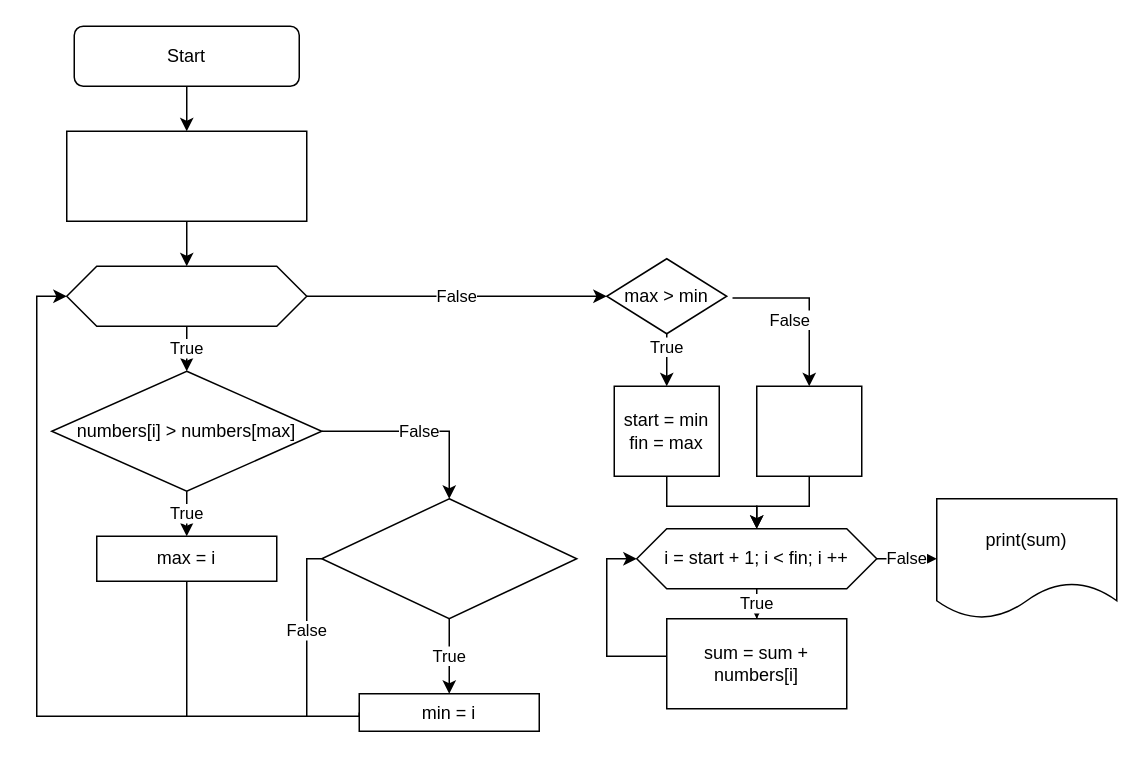
Some shapes in this 1143 by 758 pixel diagram are drawn without their labels. Each missing label, with the box of its shape:
i = 0; i < N; i ++: (65, 265, 307, 326)
numbers = [4, 1, 2, 6, 7, 3] N = numbers.length sum = 0: (65, 130, 307, 221)
numbers[i] < numbers[min]: (320, 497, 577, 619)
start = max fin = min: (755, 385, 862, 476)
